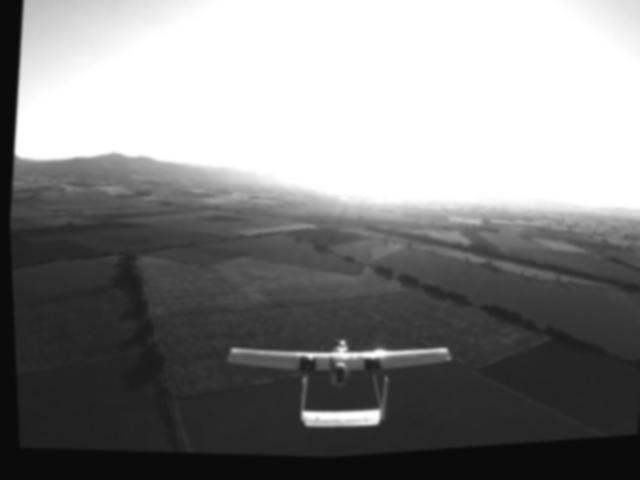hedef: (207, 312, 454, 460)
